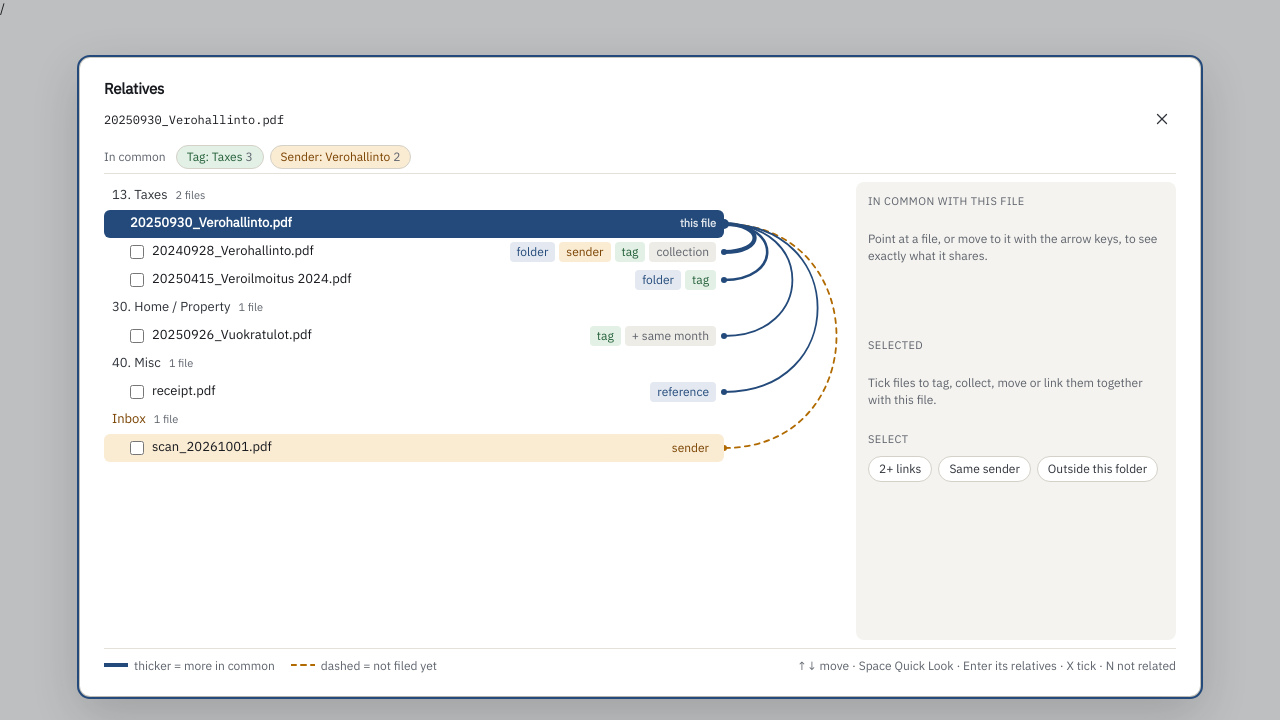
Scenario: the card › shows the exact shared values on hover in the side panel, with Quick look and Not related
The width and height of the screenshot is (1280, 720).
Expected: the checkbox named "Select receipt.pdf" is shown, [130,385,144,399]
Expected: the text "Point at a file" is shown, [868,231,1158,263]
Hover over the list item named "Select 20240928_Verohallinto.pdf" at [414, 252], box [104,238,724,266]
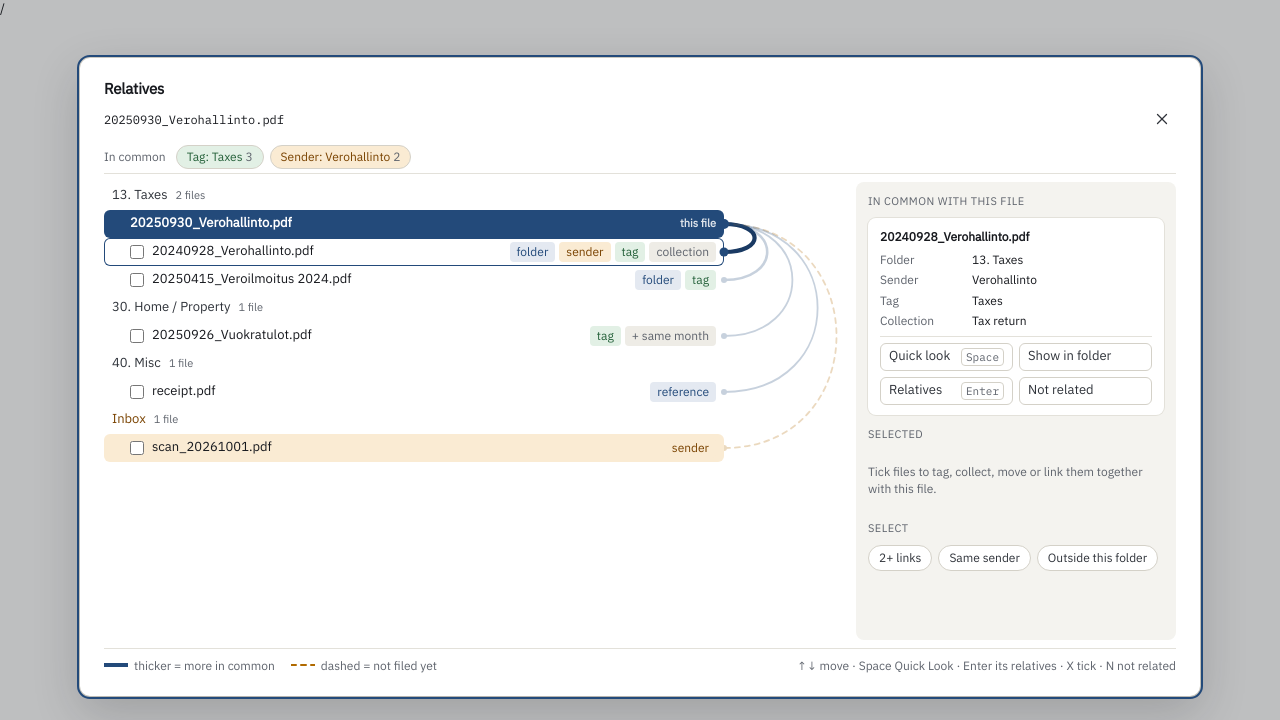
Now the text "Folder" is shown, box [880,252,914,267]
Now the text "13. Taxes" below "In common with this file" is shown, box [972,252,1023,267]
Now the text "Sender" is shown, box [880,272,918,288]
# it stays when the pointer leaves, so its buttons can be reached
Move the pointer off the list item named "Select 20240928_Verohallinto.pdf", box [104,238,724,266]
Now the element named "What 20240928_Verohallinto.pdf shares" is shown, box [868,218,1164,415]
Hover over the list item named "Select receipt.pdf" at [414, 392], box [104,378,724,406]
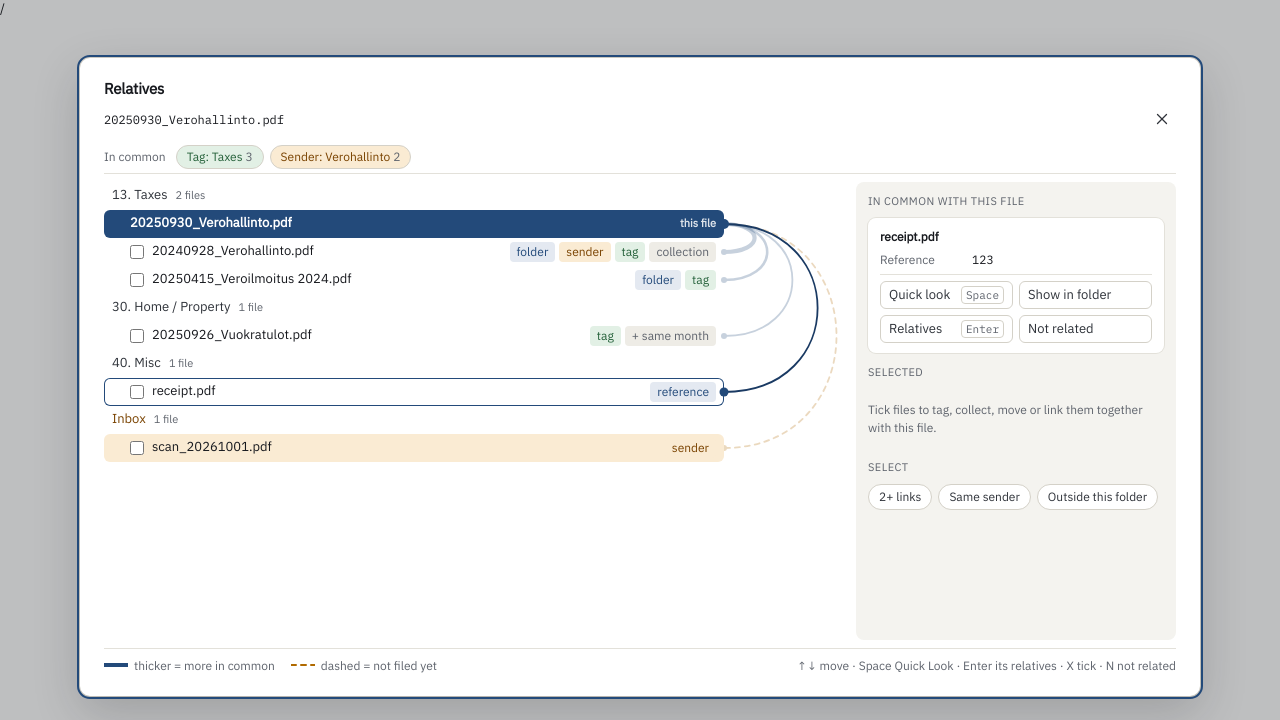
Now the element named "What receipt.pdf shares" is shown, box [868,218,1164,354]
